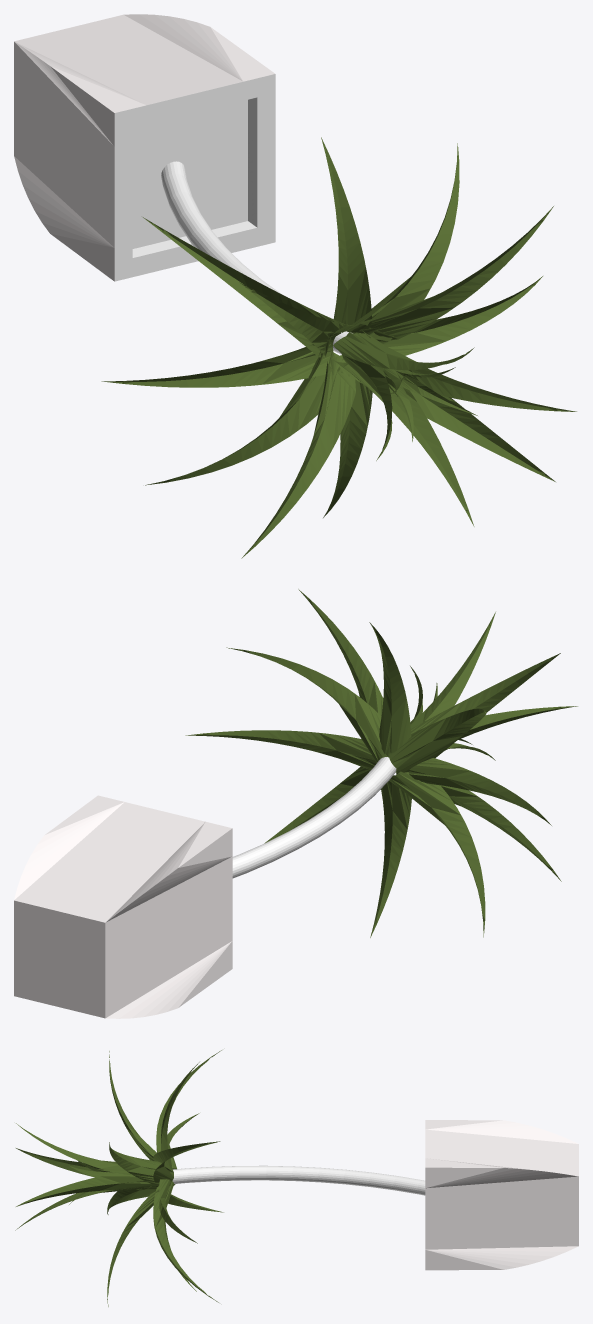
3 renders of one model, top to bottom at view 1: azimuth 30°, elevation 25°; view 2: azimuth 150°, elevation 25°; view 3: azimuth 270°, elevation 25°, orthographic. The views are drawn at different scales.
Visible parts, largest first — view 1: potted plant; view 2: potted plant; view 3: potted plant.
Boxes of the visible parts, x1,y1,x2,y2 form: potted plant: (14,14,576,558); potted plant: (14,589,577,1018); potted plant: (15,1050,578,1306).
Bounding box in the file's own units: 43.36 × 35.81 × 78.94.
